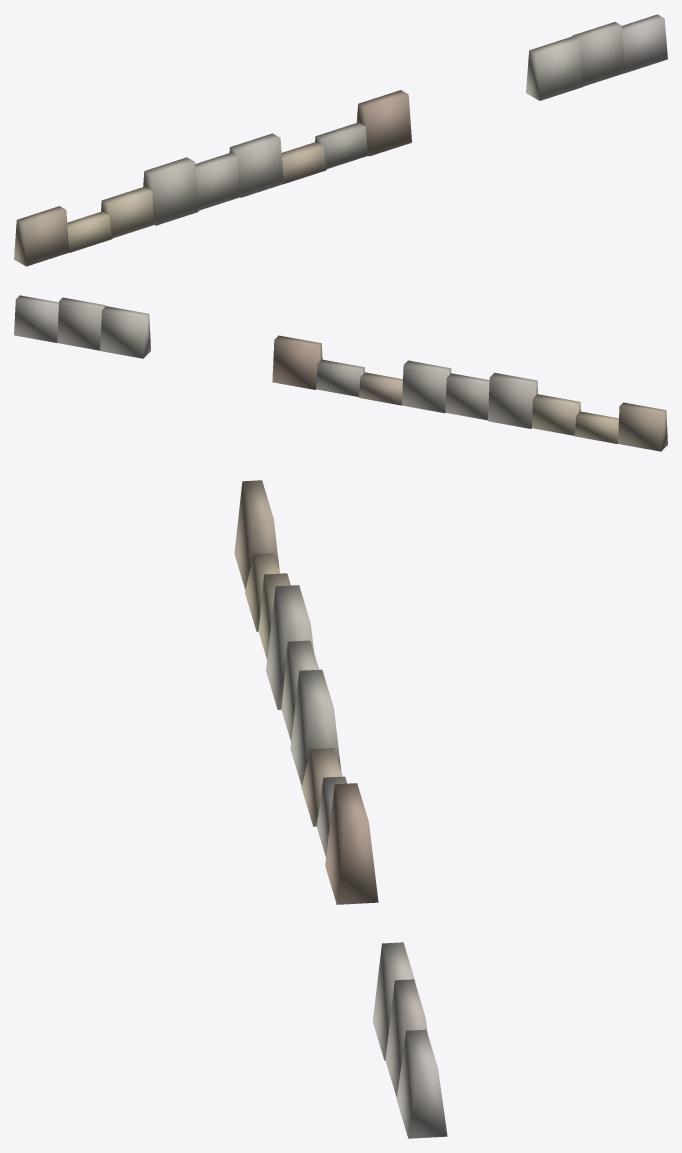
Rendered from farm_19_14_collision.glb.
3 renders of one model, top to bottom at view 1: azimuth 30°, elevation 25°; view 2: azimuth 150°, elevation 25°; view 3: azimuth 270°, elevation 25°, orthographic. The views are drawn at different scales.
Parts seen in each view (by area): view 1: geometry_0; view 2: geometry_0; view 3: geometry_0.
Part boxes in pixels (x1,y1,x2,y2): geometry_0: (14, 14, 667, 266); geometry_0: (14, 295, 667, 451); geometry_0: (234, 480, 447, 1138).
Size of the model in its own units: 23.39 by 1.57 by 3.57.
